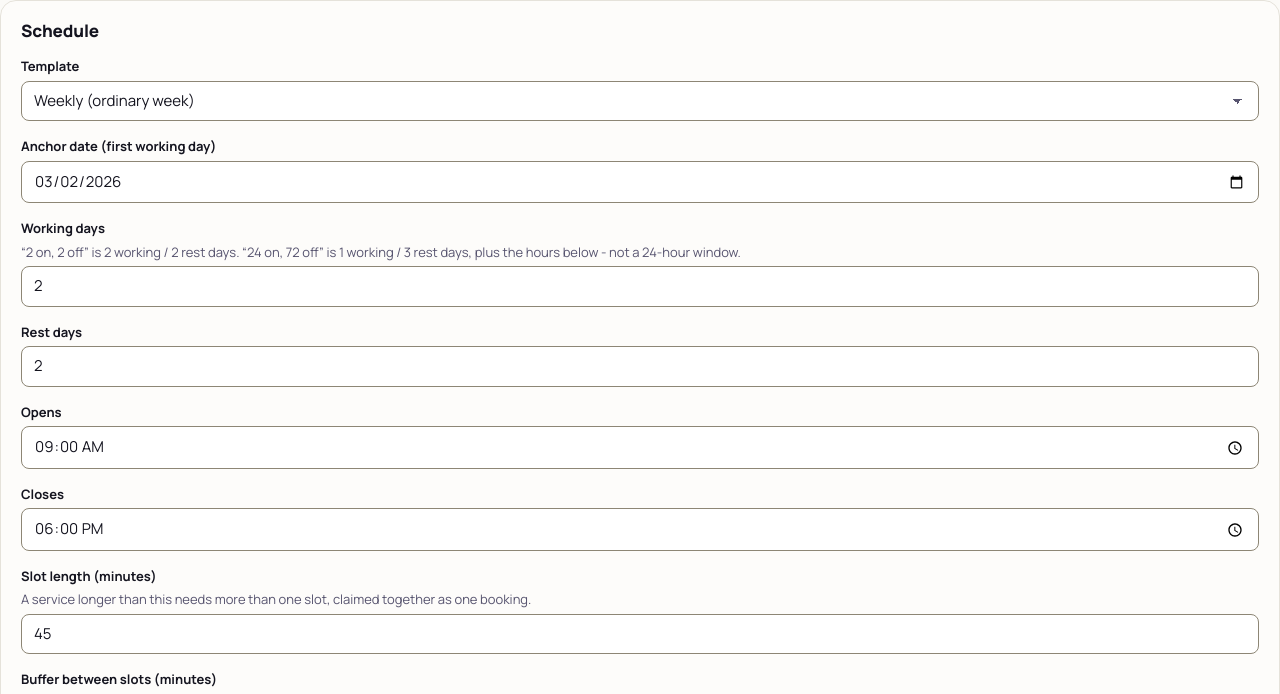
it: the worker schedule section › warns before a save that would switch a cycle schedule back to weekly
This screenshot has width=1280, height=694.
Select "Weekly (ordinary week)" in the dropdown labelled "Template": (640, 101) [21,81,1259,121]
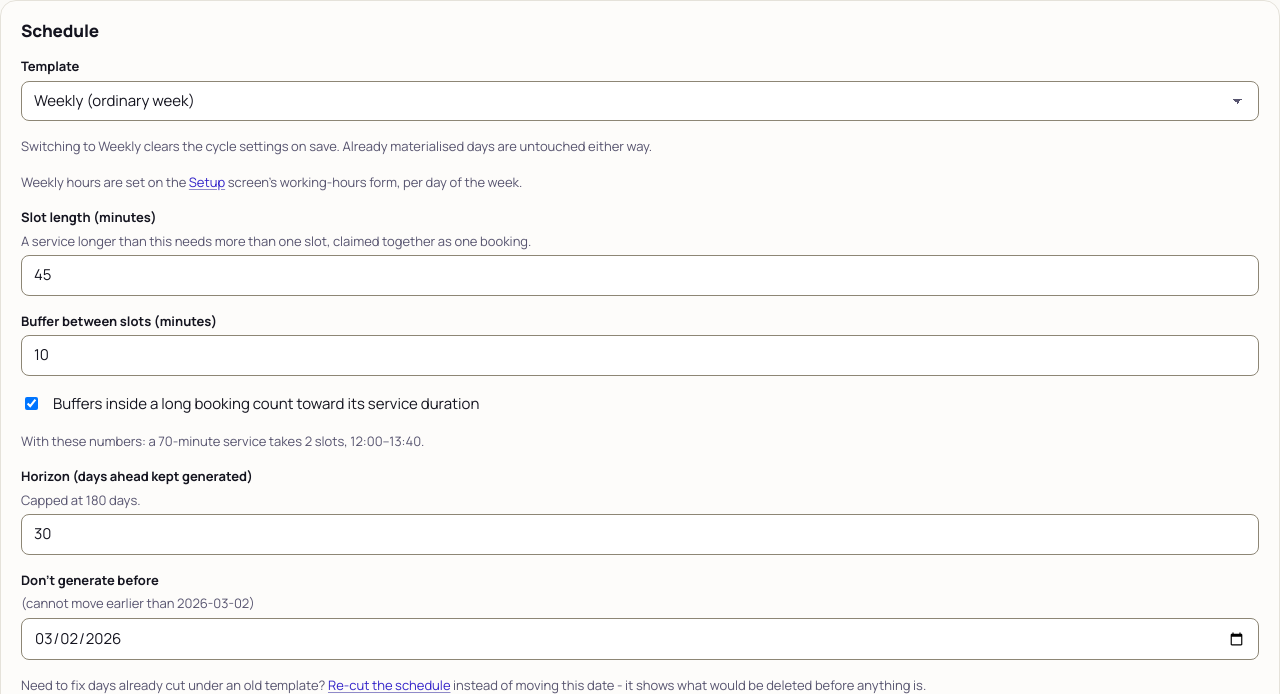
Check: the text "clears the cycle settings" is shown, box [21,137,652,155]
